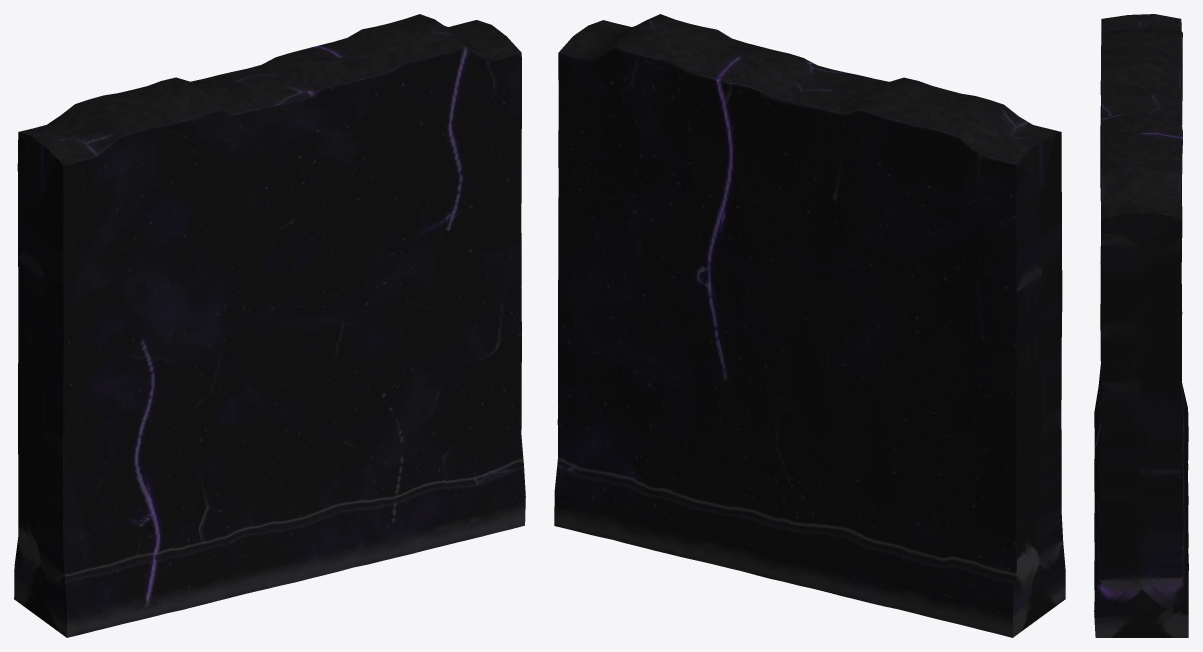
The model's file is abyss_wall_c.glb.
3 renders of one model, left to right at view 1: azimuth 30°, elevation 25°; view 2: azimuth 150°, elevation 25°; view 3: azimuth 270°, elevation 25°, orthographic. The views are drawn at different scales.
Visible parts, largest first — view 1: abyss_wall_c; view 2: abyss_wall_c; view 3: abyss_wall_c.
Boxes of the visible parts, <box> form: abyss_wall_c: <box>14,14,525,637</box>; abyss_wall_c: <box>554,14,1065,637</box>; abyss_wall_c: <box>1094,14,1188,637</box>.
Size of the model in its own units: 4 by 4.13 by 0.8018.
Materials: 1 (1 with a texture image).
